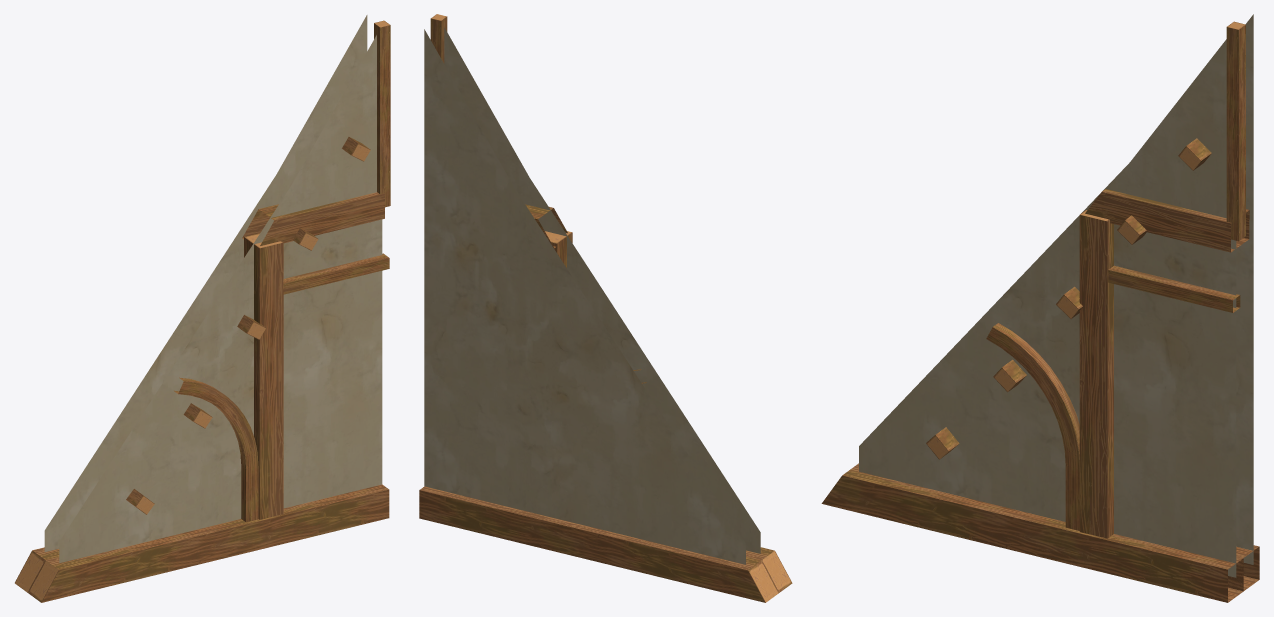
The model's file is Roof_Front_Brick6_Half_L.glb.
3 renders of one model, left to right at view 1: azimuth 30°, elevation 25°; view 2: azimuth 150°, elevation 25°; view 3: azimuth 330°, elevation 25°, orthographic. The views are drawn at different scales.
Parts seen in each view (by area): view 1: Roof_Front_Brick6_Half_L; view 2: Roof_Front_Brick6_Half_L; view 3: Roof_Front_Brick6_Half_L.
Boxes of the visible parts, <box> form: Roof_Front_Brick6_Half_L: <box>15,15,390,602</box>; Roof_Front_Brick6_Half_L: <box>419,14,792,602</box>; Roof_Front_Brick6_Half_L: <box>821,14,1259,602</box>.
Bounding box in the file's own units: 3.41 × 4.52 × 0.4895.
2 materials, 2 textured.
